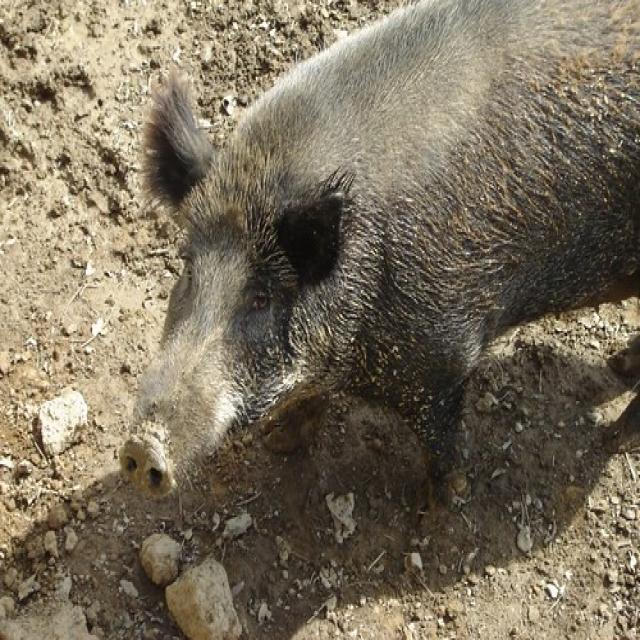boar: (83, 0, 640, 587)
